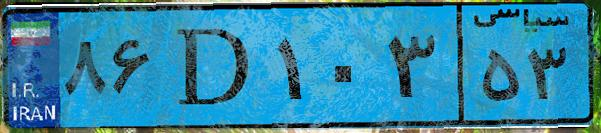0: (330, 28, 385, 110)
1: (270, 28, 330, 110)
3: (385, 28, 445, 110), (525, 38, 570, 115)
5: (475, 38, 525, 113)
6: (110, 28, 158, 98)
8: (57, 26, 110, 100)
D: (158, 12, 270, 120)
